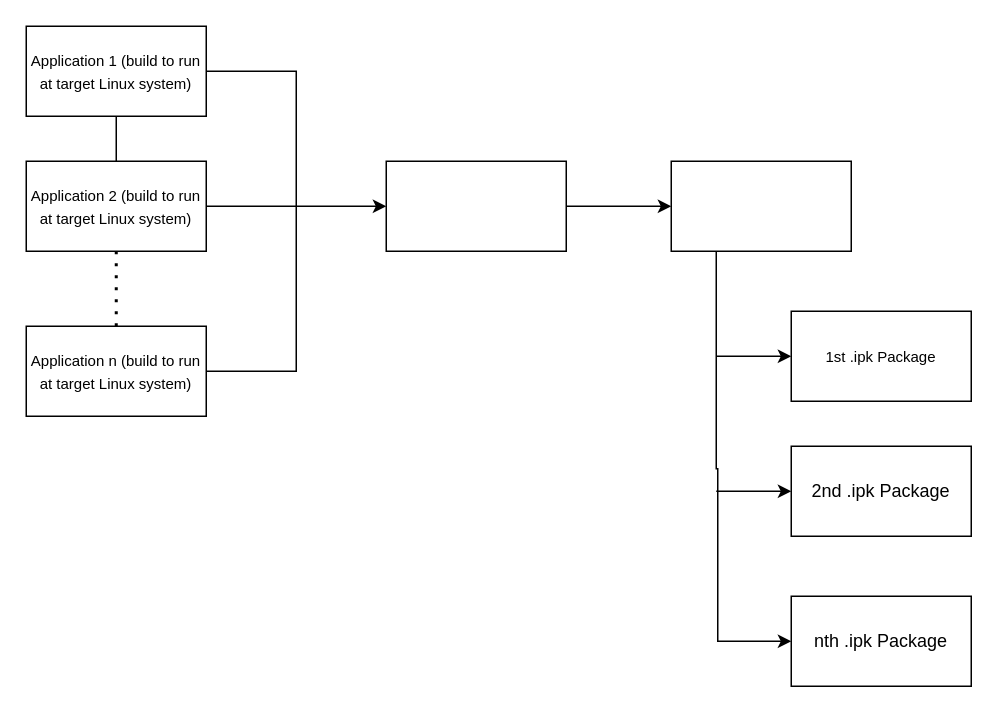
The diagram is 998 pixels wide and 713 high, and some of its shapes have lost their labels. The shapes that lost their labels are listed below. From the top down, each one's box as (x1, y1, x2, y2) in pixels, then its label:
(385, 160, 566, 251): Create OPKG Package structure
(670, 160, 851, 251): Run OPKG build command
